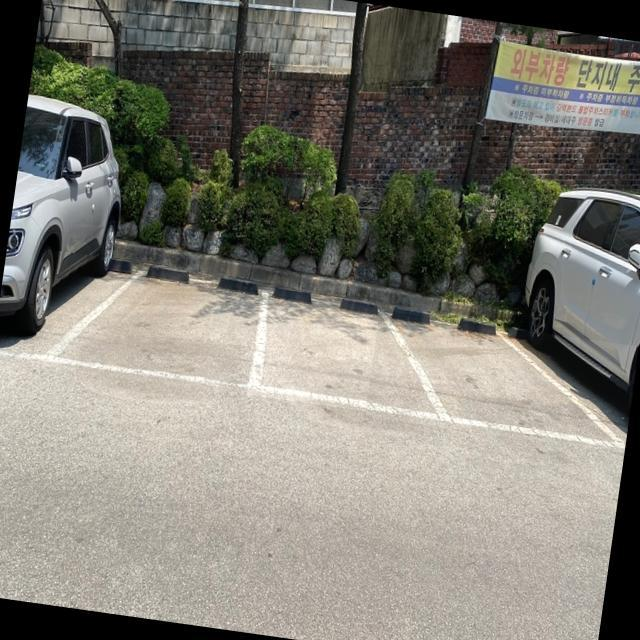empty: (380, 313, 626, 450), (33, 263, 272, 395), (248, 288, 459, 424)
